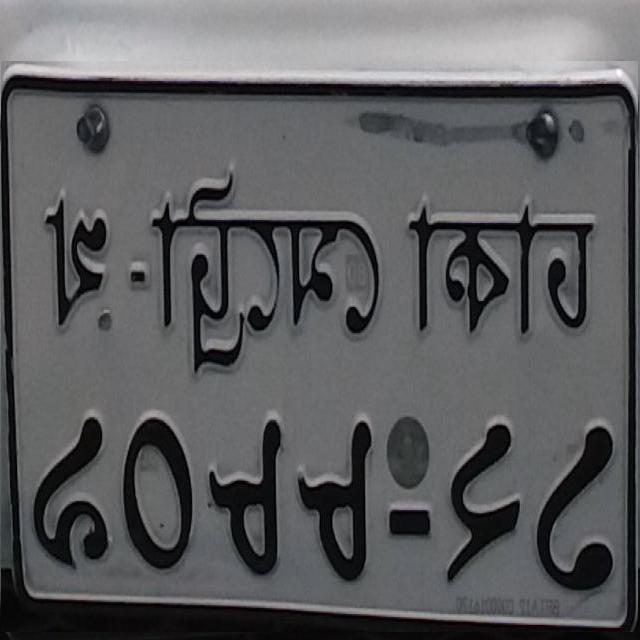numberplate: (1, 61, 638, 632)
